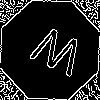W: (25, 25, 87, 86)
